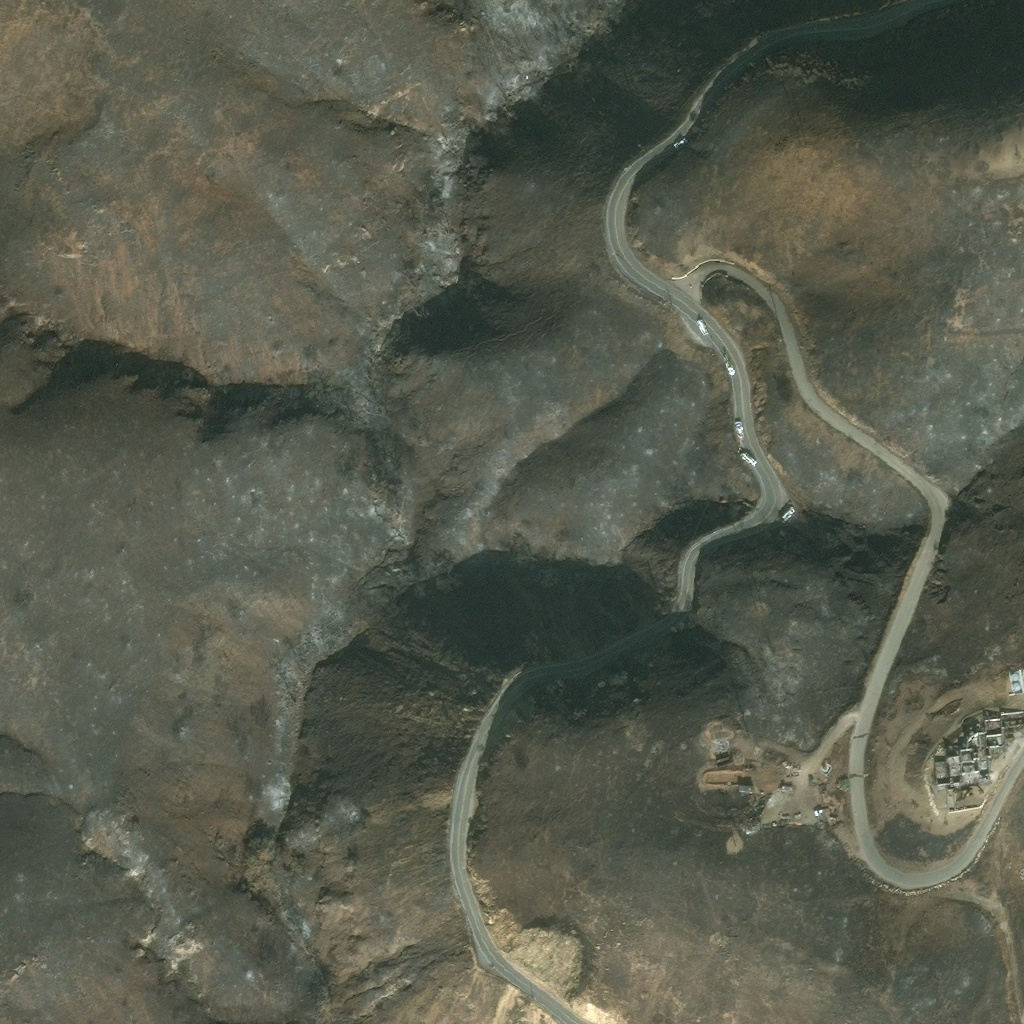1 minor-damage: (1010, 671, 1021, 693)
2 major-damage: (738, 786, 752, 794)
3 destroyed: (931, 745, 991, 791), (981, 706, 1023, 731), (981, 729, 1004, 748), (964, 729, 989, 746), (741, 821, 760, 832)
